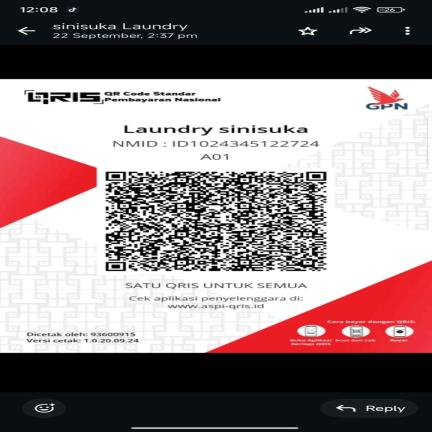Cara Pakai QRIS: (282, 318, 428, 352)
Cek Aplikasi Penyelenggara: (119, 294, 316, 311)
Dicetak Oleh: (16, 331, 139, 337)
Logo GPN: (352, 84, 417, 114)
Logo dan deskripsi QRIS: (16, 87, 229, 105)
Nama Merchant: (116, 123, 314, 137)
National Merchant ID: (102, 139, 329, 150)
QR Code: (98, 167, 334, 274)
Slogan: (119, 280, 316, 291)
Terminal ID: (195, 152, 236, 162)
Versi Cetak: (16, 338, 142, 344)
